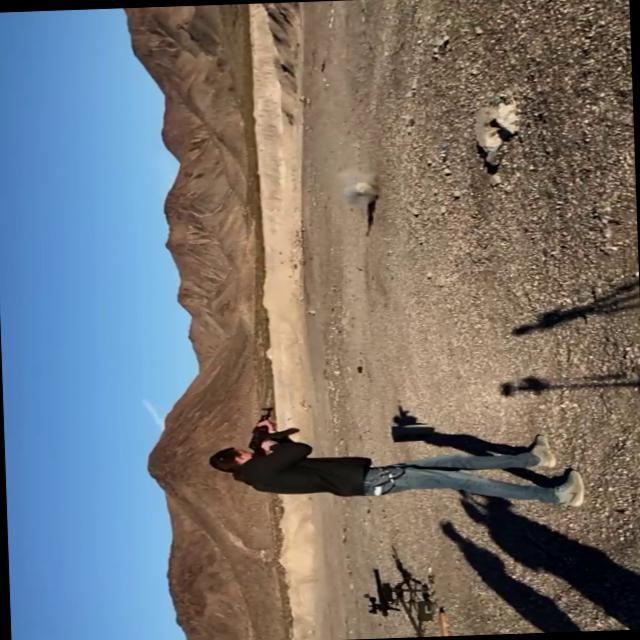long weapon: (332, 547, 442, 623), (238, 394, 300, 461)
